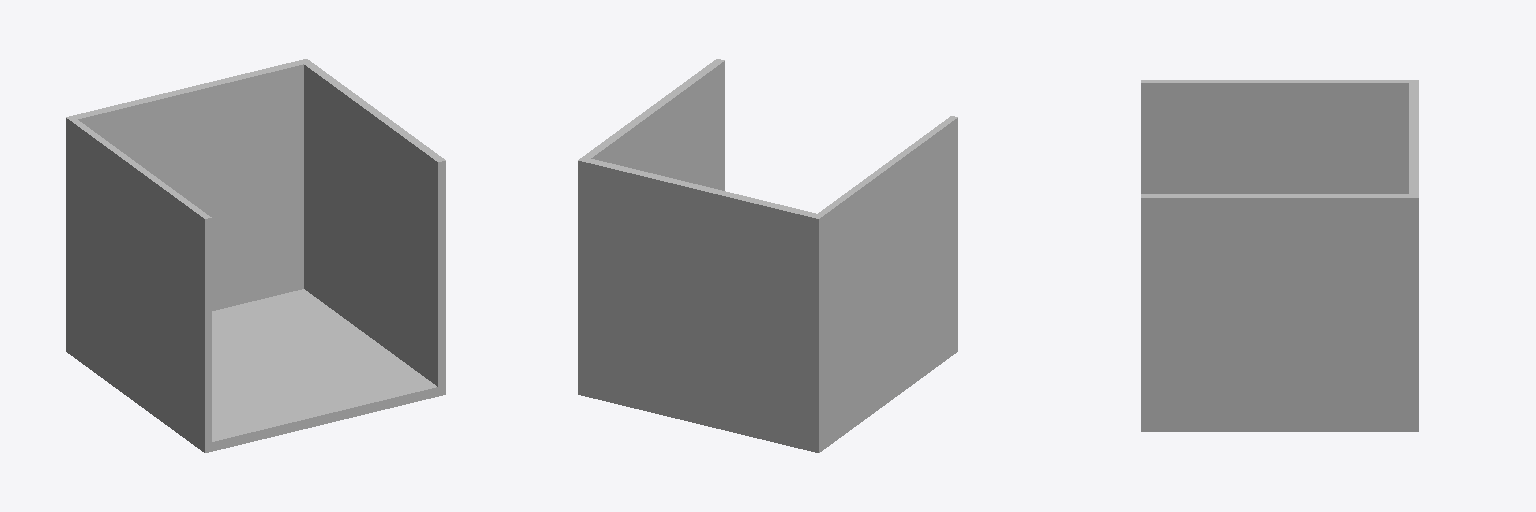
The model's file is fever_spot.obj.
3 renders of one model, left to right at view 1: azimuth 30°, elevation 25°; view 2: azimuth 150°, elevation 25°; view 3: azimuth 270°, elevation 25°, orthographic.
Visible parts, largest first — view 1: pCube12; view 2: pCube12; view 3: pCube12.
Boxes of the visible parts, x1=… form: pCube12: x1=66, y1=59, x2=445, y2=452; pCube12: x1=578, y1=59, x2=957, y2=452; pCube12: x1=1141, y1=80, x2=1418, y2=431.
Bounding box in the file's own units: 0.1942 × 0.1803 × 0.1942.